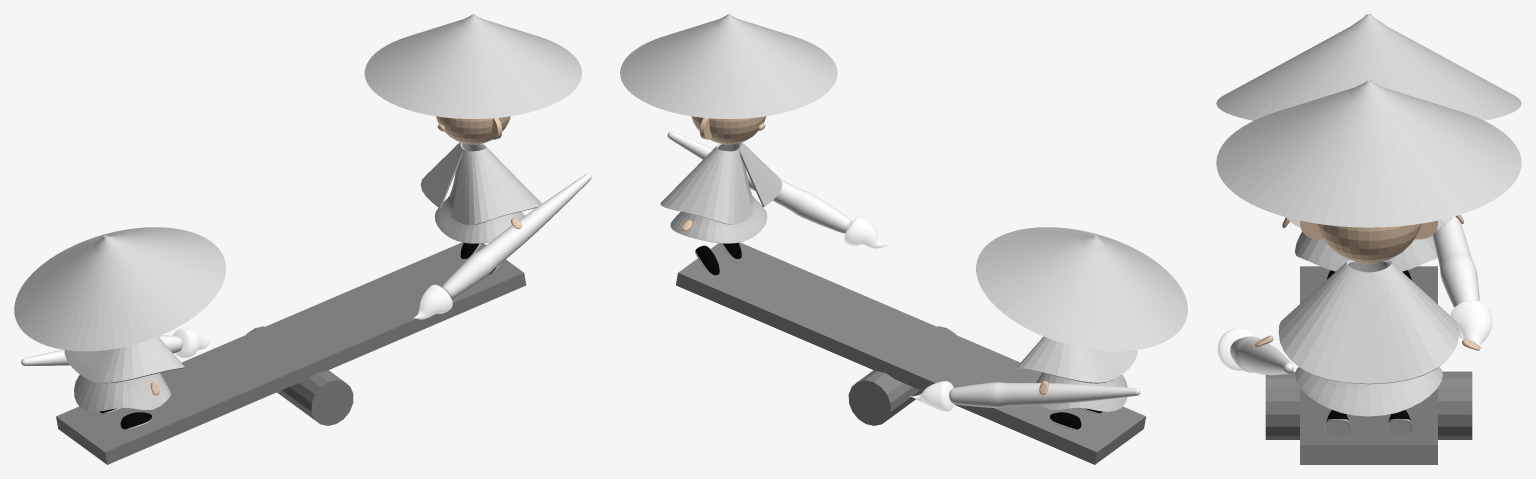
The model's file is tremplin.glb.
3 renders of one model, left to right at view 1: azimuth 30°, elevation 25°; view 2: azimuth 150°, elevation 25°; view 3: azimuth 270°, elevation 25°, orthographic. The views are drawn at different scales.
Parts seen in each view (by area): view 1: tremplin_5, tremplin_0, tremplin_2, tremplin_1, tremplin_3, tremplin_4; view 2: tremplin_5, tremplin_0, tremplin_2, tremplin_1, tremplin_3, tremplin_4; view 3: tremplin_5, tremplin_0, tremplin_2, tremplin_1, tremplin_3, tremplin_4.
Part boxes in pixels (x1,y1,x2,y2): tremplin_5: (14,14,581,429); tremplin_0: (56,242,526,464); tremplin_2: (21,173,591,365); tremplin_1: (150,116,522,395); tremplin_3: (173,284,452,358); tremplin_4: (99,243,496,429); tremplin_5: (620,14,1187,429); tremplin_0: (676,242,1145,464); tremplin_2: (667,131,1140,407); tremplin_1: (681,116,1048,394); tremplin_3: (844,216,954,411); tremplin_4: (695,242,1102,429); tremplin_5: (1216,14,1521,434); tremplin_0: (1265,266,1472,464); tremplin_2: (1230,216,1479,375); tremplin_1: (1255,214,1480,350); tremplin_3: (1217,300,1492,370); tremplin_4: (1326,270,1411,421).
Size of the model in its own units: 6.33 by 3.82 by 2.21.
